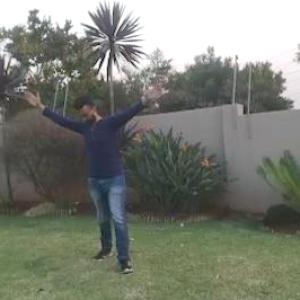takeoff: (27, 76, 166, 276)
